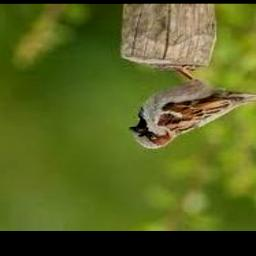Sparrow: (129, 66, 256, 149)
